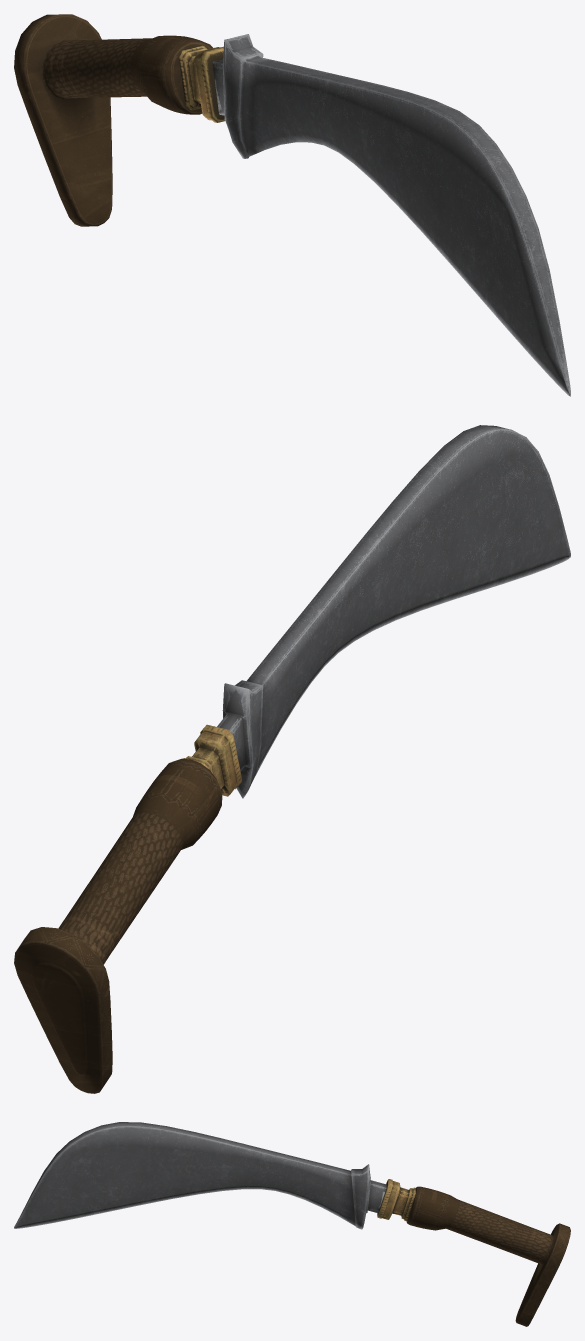
The model's file is knife_Ayda_Katti_1.obj.
3 views of the same model, one above another, from view 1: azimuth 30°, elevation 25°; view 2: azimuth 150°, elevation 25°; view 3: azimuth 270°, elevation 25° (orthographic). The views are drawn at different scales.
Parts seen in each view (by area): view 1: knife1_low_Cube; view 2: knife1_low_Cube; view 3: knife1_low_Cube.
Part boxes in pixels (x1,y1,x2,y2): knife1_low_Cube: (14, 14, 570, 396); knife1_low_Cube: (14, 425, 570, 1093); knife1_low_Cube: (14, 1122, 570, 1326).
Size of the model in its own units: 0.0697 by 0.3074 by 0.7694.
Materials: 1 (1 with a texture image).
